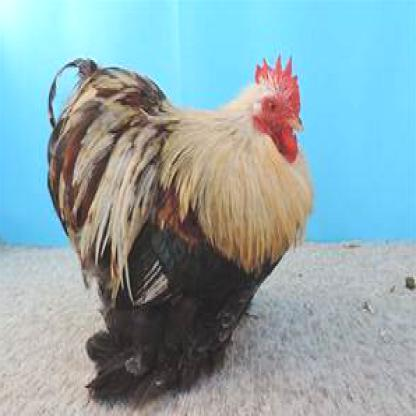chicken: (49, 54, 310, 390)
